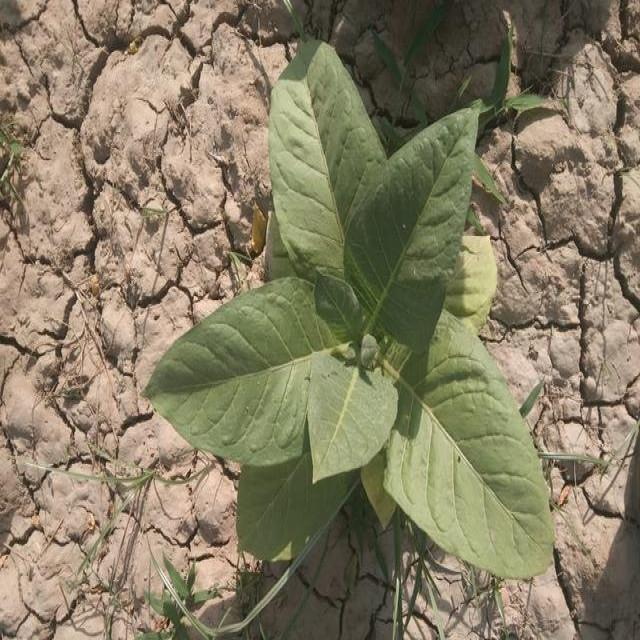crop: (146, 44, 554, 576)
